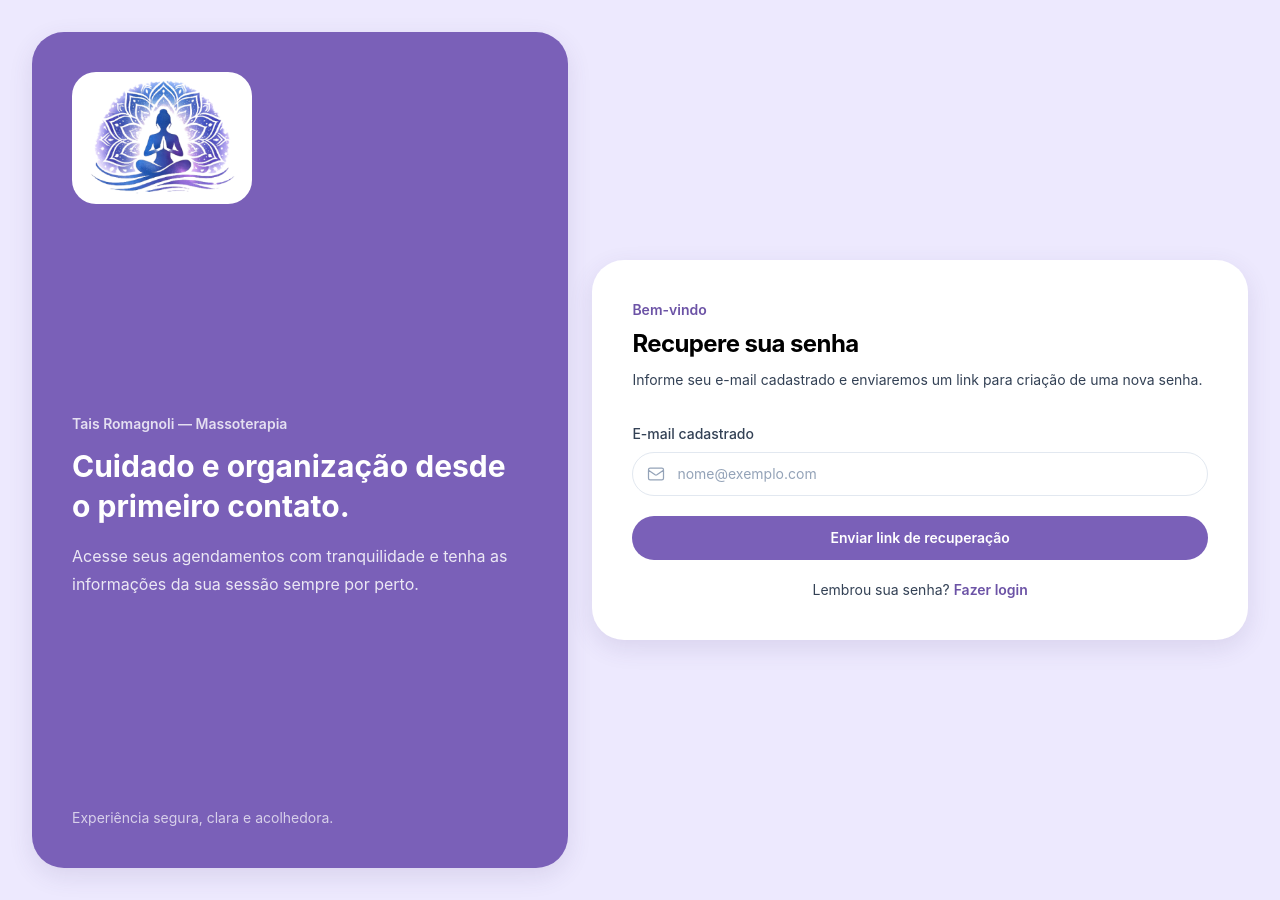
ForgotPasswordPage › exibe erro de validacao com formato de e-mail invalido
Type "email-invalido" into the field labelled "E-mail cadastrado" at (920,474), box [632,452,1208,496]
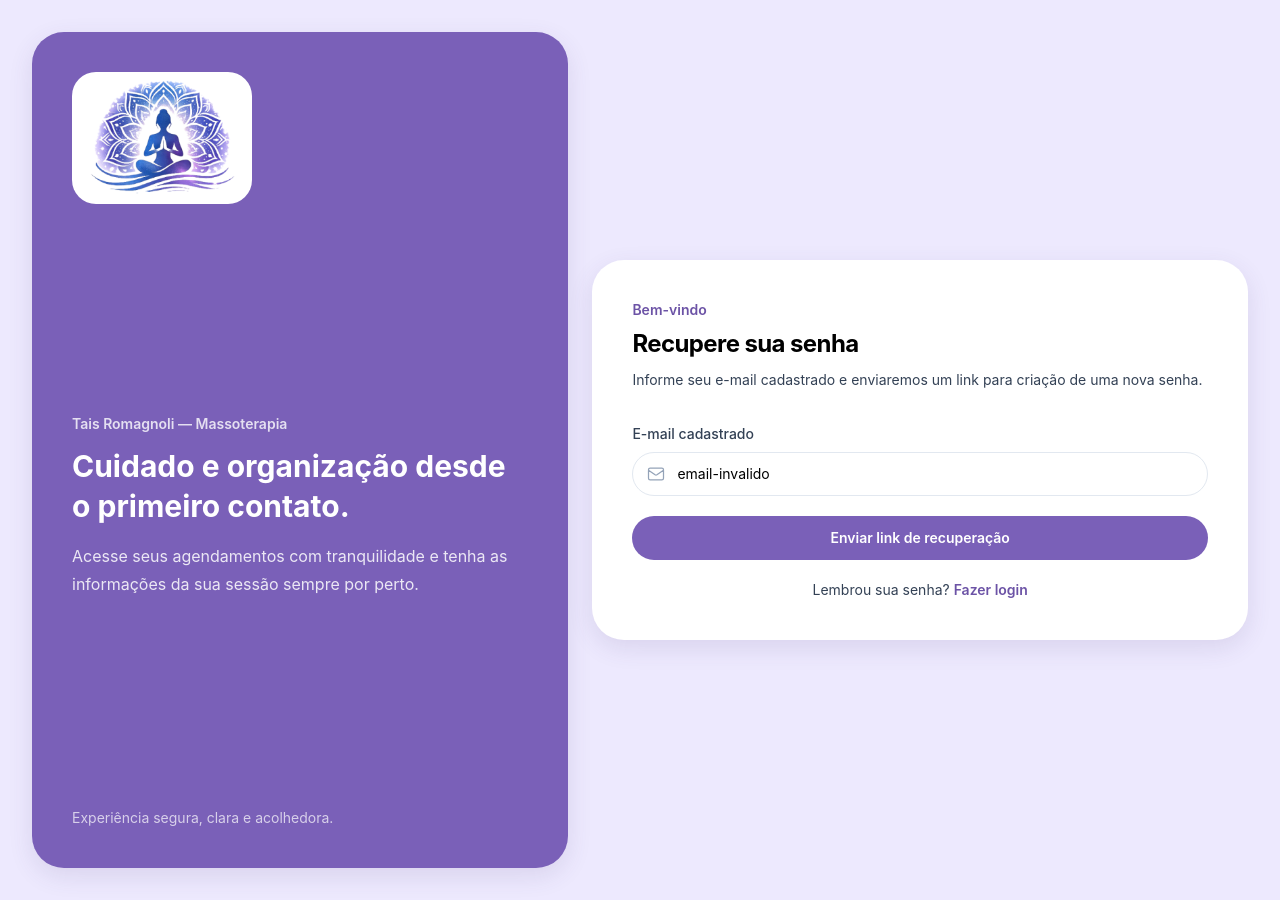
Click the button "Enviar link de recuperação" at (920,538), box [632,516,1208,560]
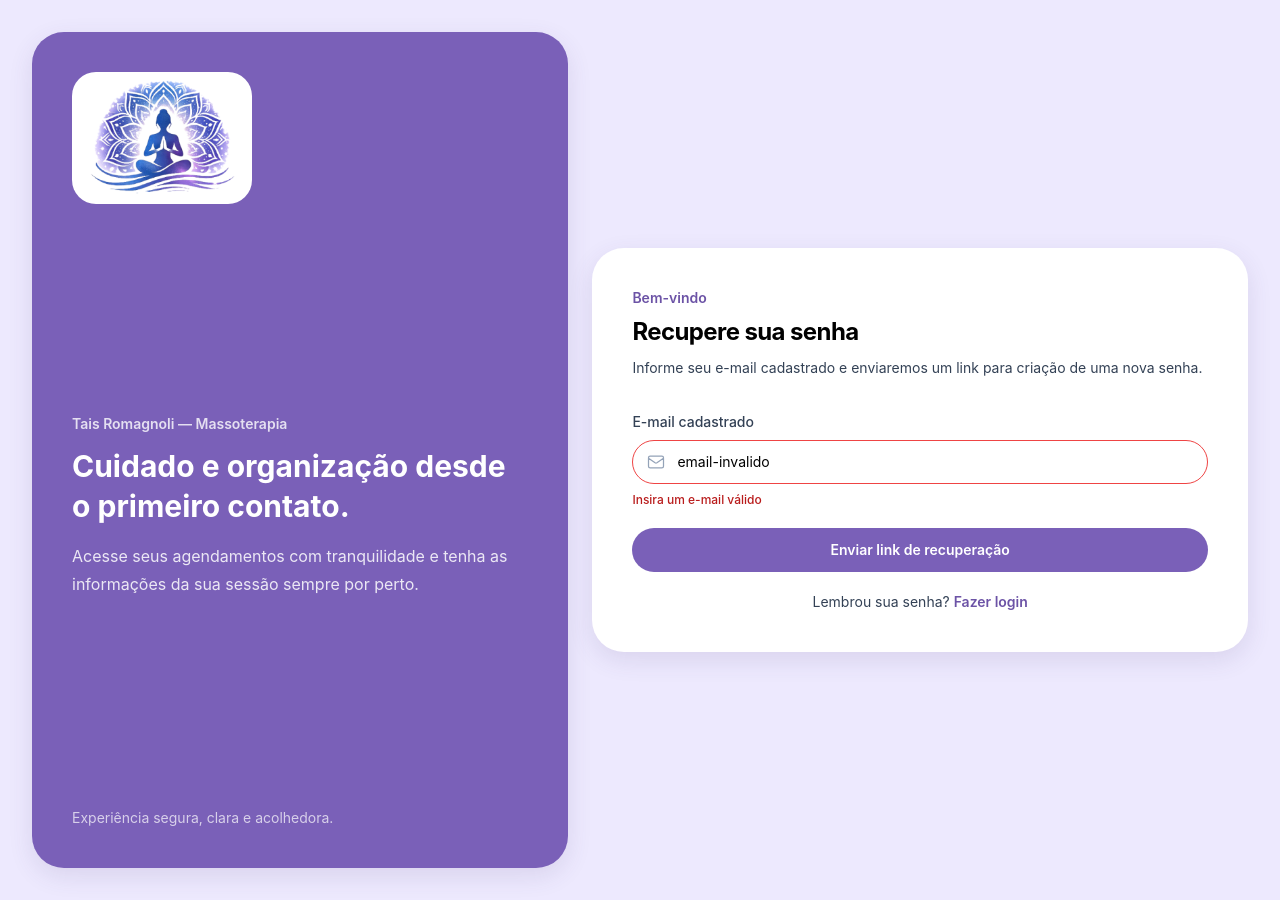
Expected: the text "Insira um e-mail válido" is shown, [632,492,762,507]
